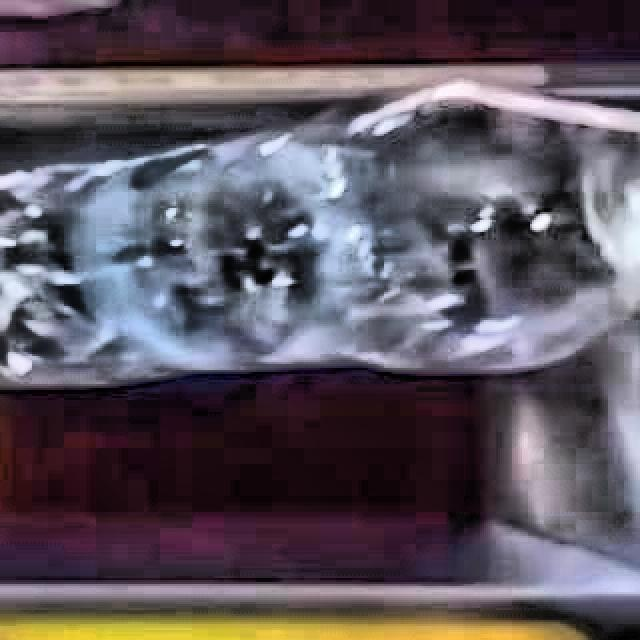plastic: (0, 75, 640, 390)
